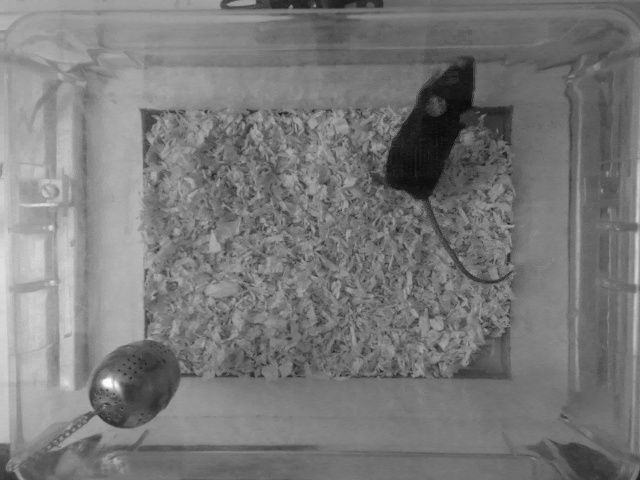mice: (368, 44, 521, 277)
